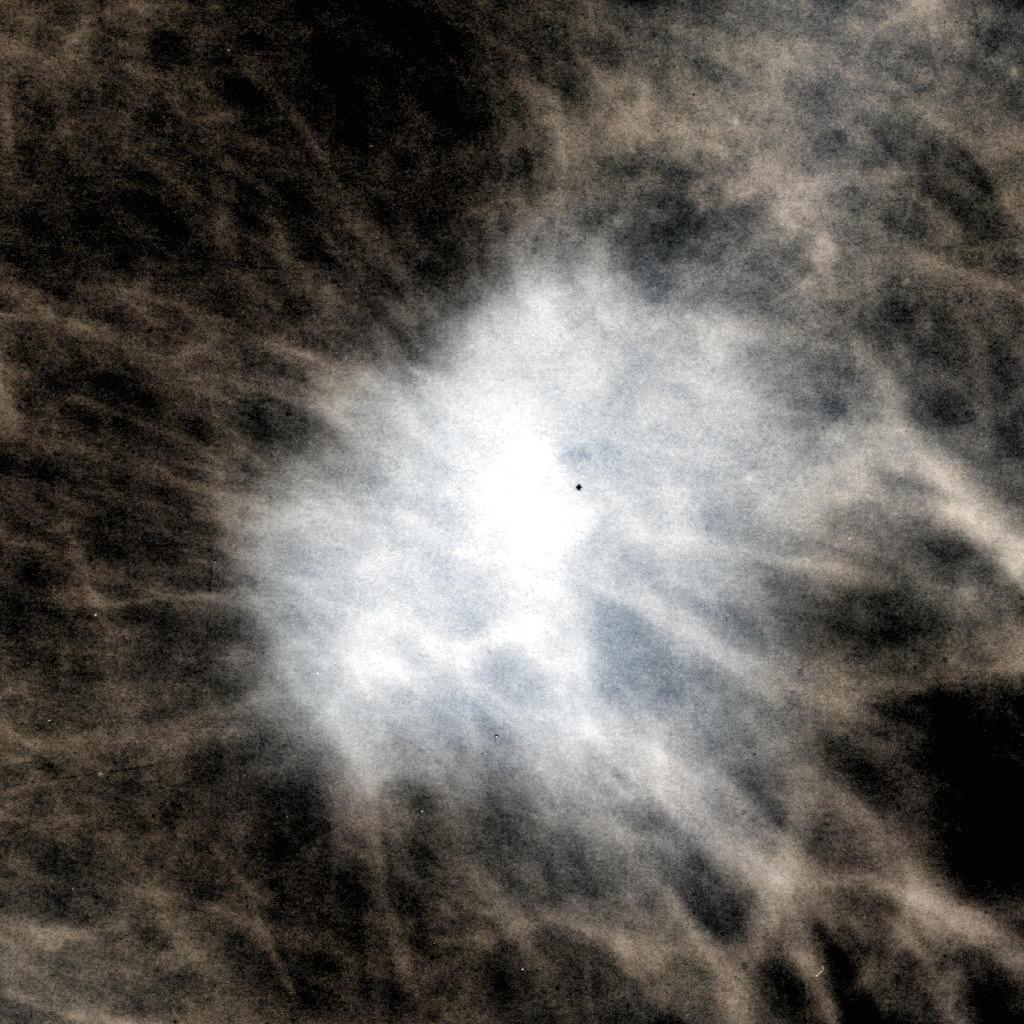tumor: (246, 262, 778, 762)
